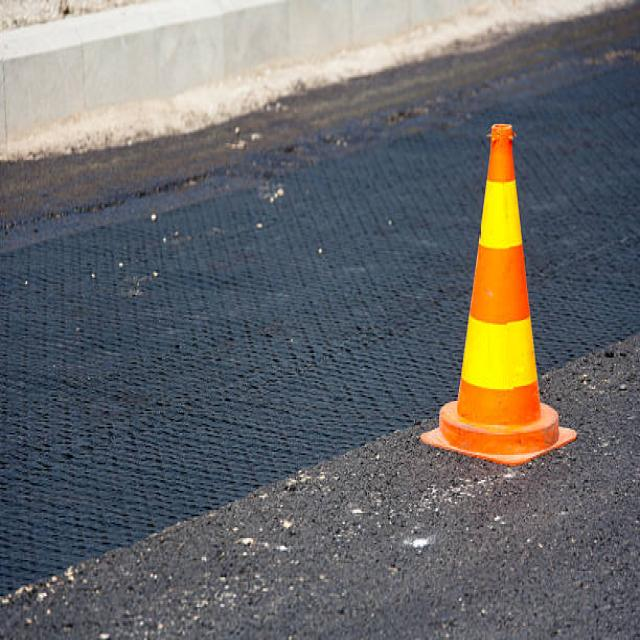Traffic Cone: (409, 80, 596, 490)
